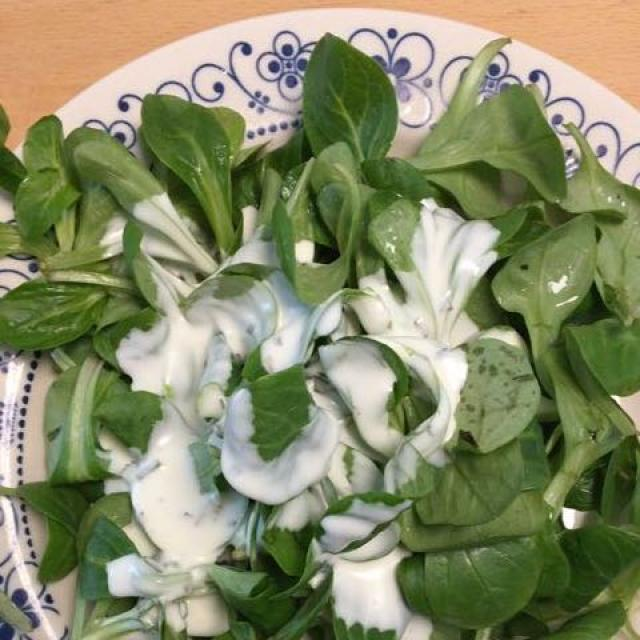french-salad-dressing: (84, 166, 511, 638), (98, 178, 497, 637)
salad-lambs-ear: (34, 41, 631, 621), (33, 58, 630, 634)
